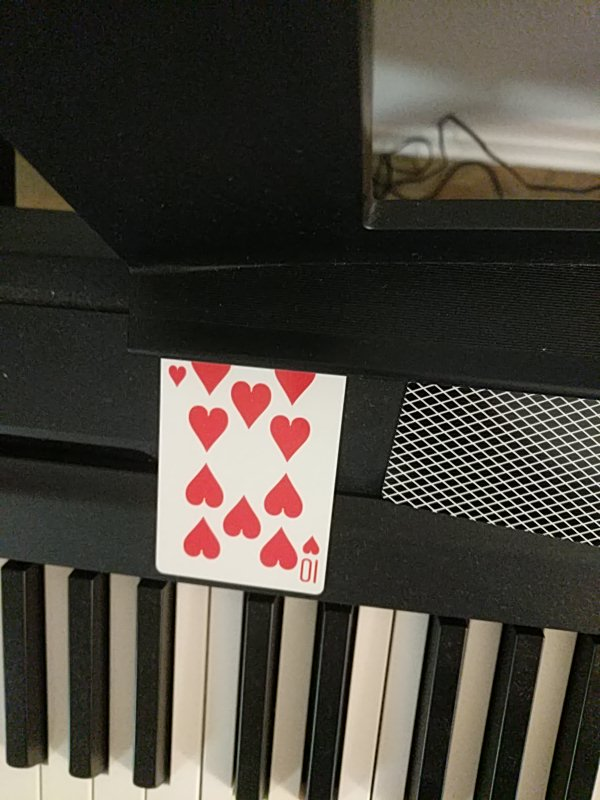Hearts: (158, 358, 347, 593)
